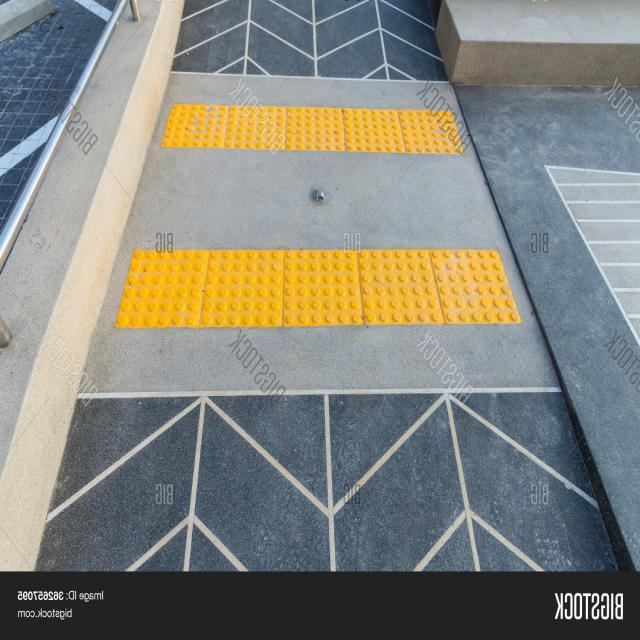tactile-guide-path: (116, 248, 518, 324), (159, 103, 463, 153)
